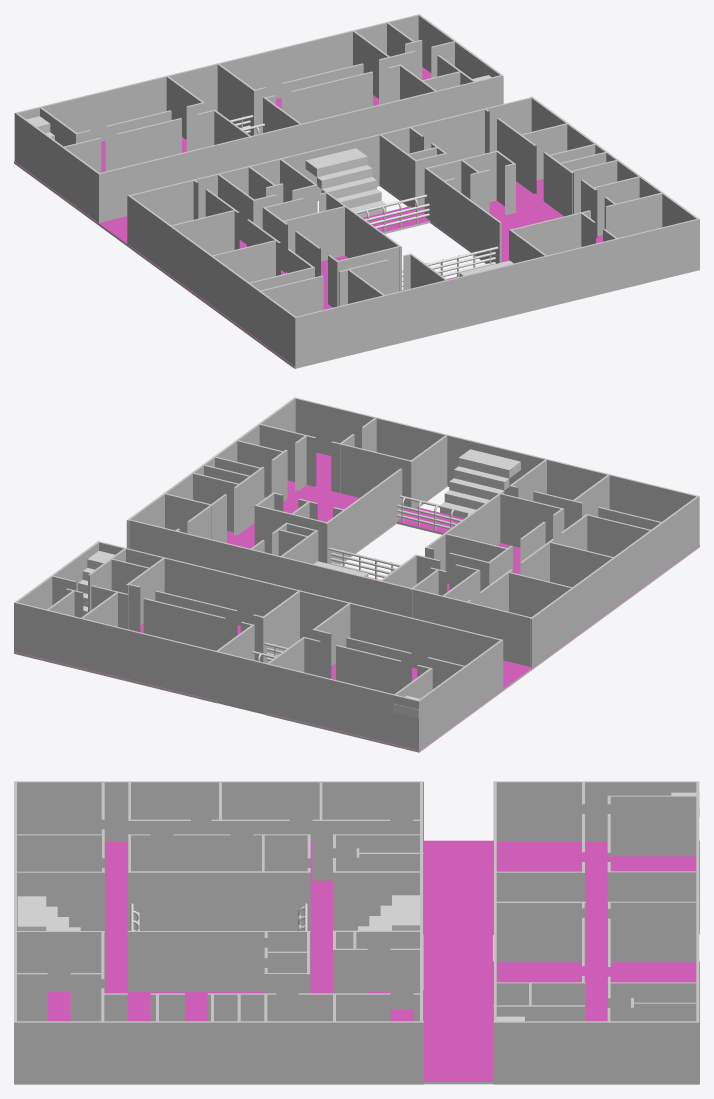
File: First_Model.fbx
3 views of the same model, one above another, from view 1: azimuth 30°, elevation 25°; view 2: azimuth 150°, elevation 25°; view 3: azimuth 270°, elevation 25° (orthographic). The views are drawn at different scales.
Parts seen in each view (by area): view 1: Stair_Ground_8.004; view 2: Stair_Ground_8.004; view 3: Stair_Ground_8.004.
Part boxes in pixels (x1,y1,x2,y2): Stair_Ground_8.004: (14, 14, 699, 368); Stair_Ground_8.004: (14, 397, 699, 752); Stair_Ground_8.004: (14, 781, 699, 1084).
Size of the model in its own units: 5006 by 600 by 6007.
